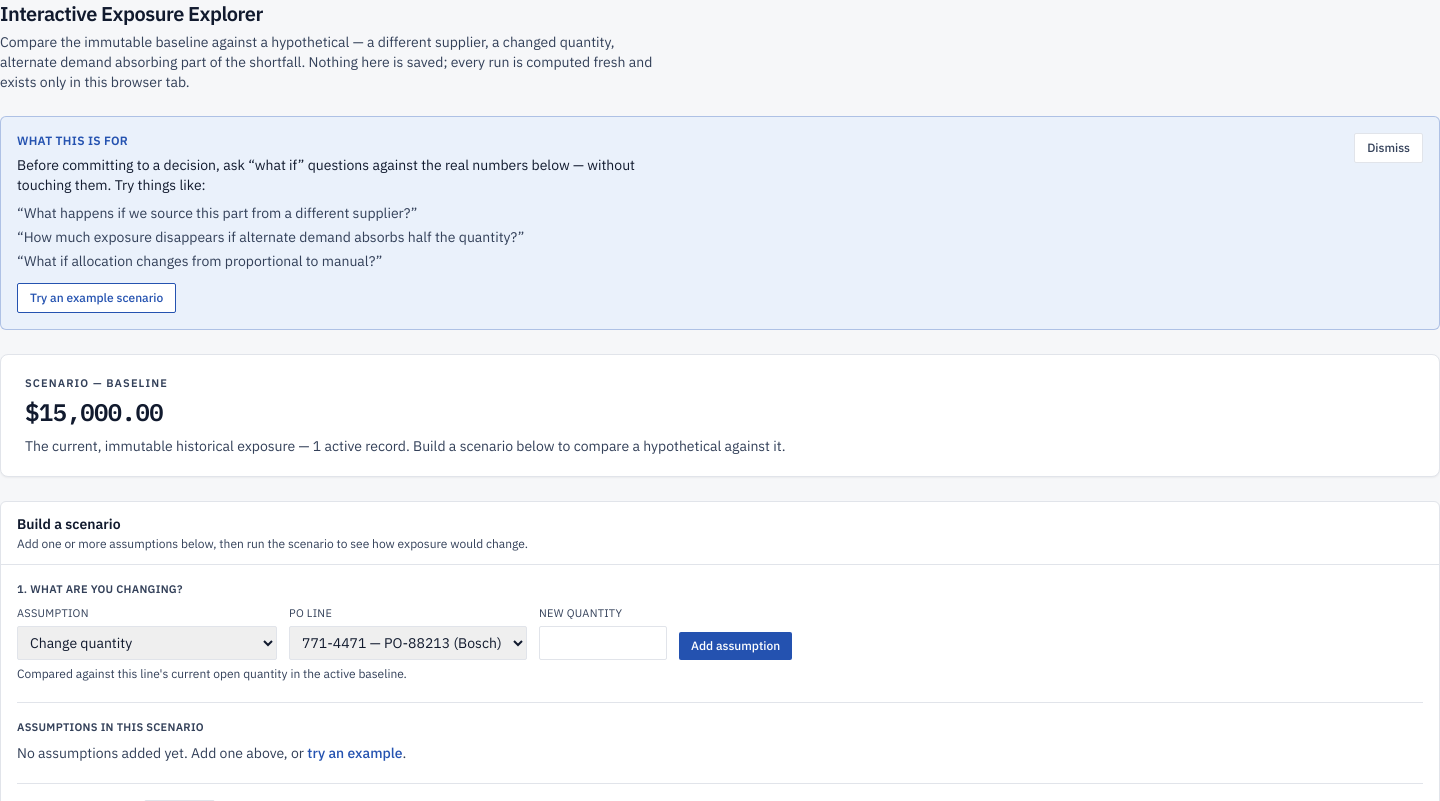
ExposureExplorerClient › shows first-run guidance with an example scenario, and lets the user dismiss it
Expected: the text "What this is for" is shown, [17, 133, 128, 148]
Expected: the button "Try an example scenario" is shown, [17, 283, 176, 313]
Click the button with aria-label "dismiss guidance".
click(1389, 148)  # box [1354, 133, 1423, 163]
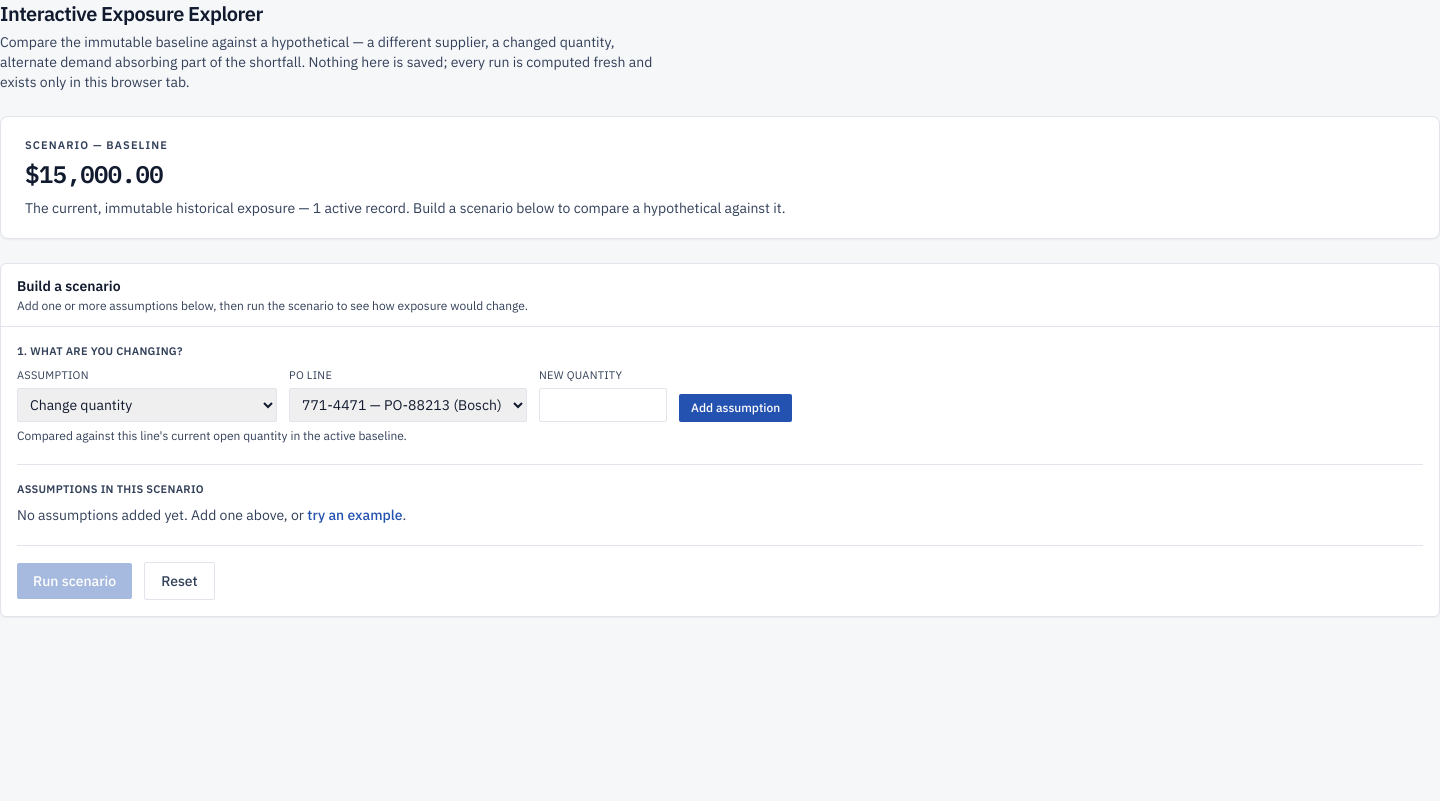
Now the text "What this is for" is gone
